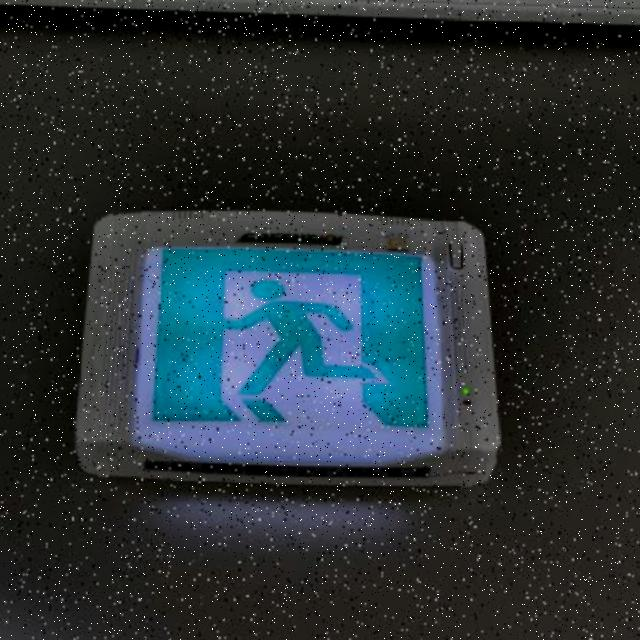emergency_exit: (75, 209, 501, 489)
